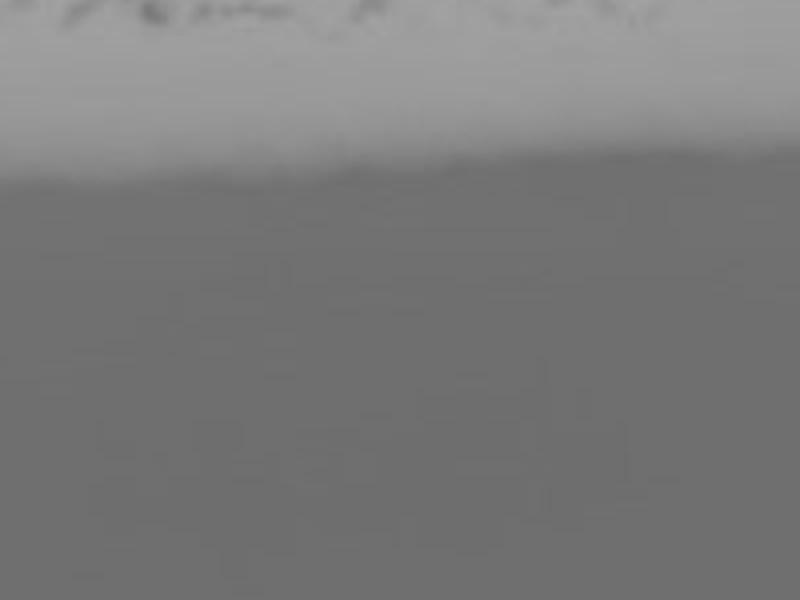defect: (140, 1, 169, 29), (351, 1, 378, 27), (65, 1, 91, 26), (190, 1, 213, 24), (595, 1, 617, 22), (261, 3, 281, 23), (219, 4, 233, 18), (242, 1, 256, 14), (627, 18, 638, 29)
